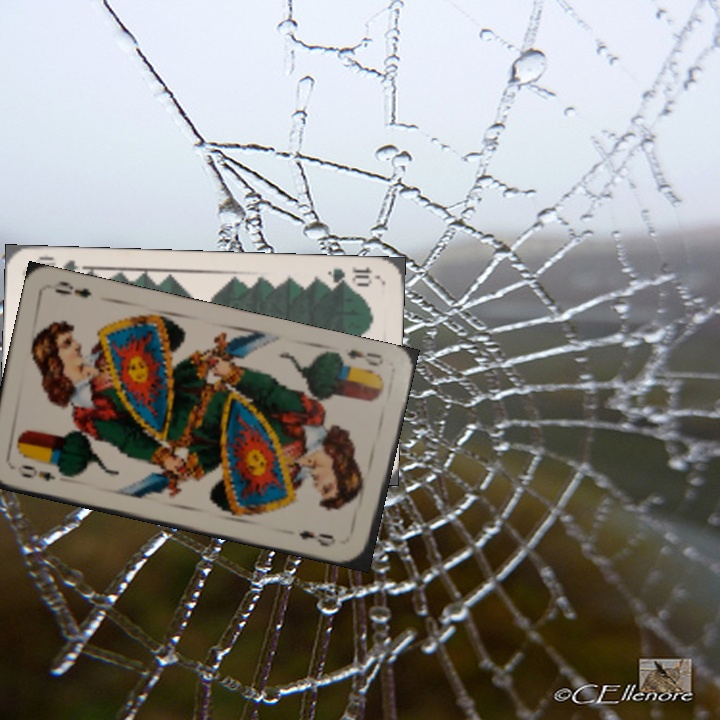EO: (343, 345, 386, 369), (17, 460, 59, 484)
G10: (323, 262, 378, 290)
